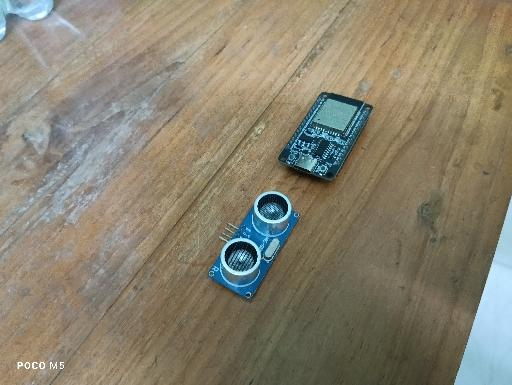Esp32: (277, 91, 374, 182)
sensor: (206, 190, 300, 302)
